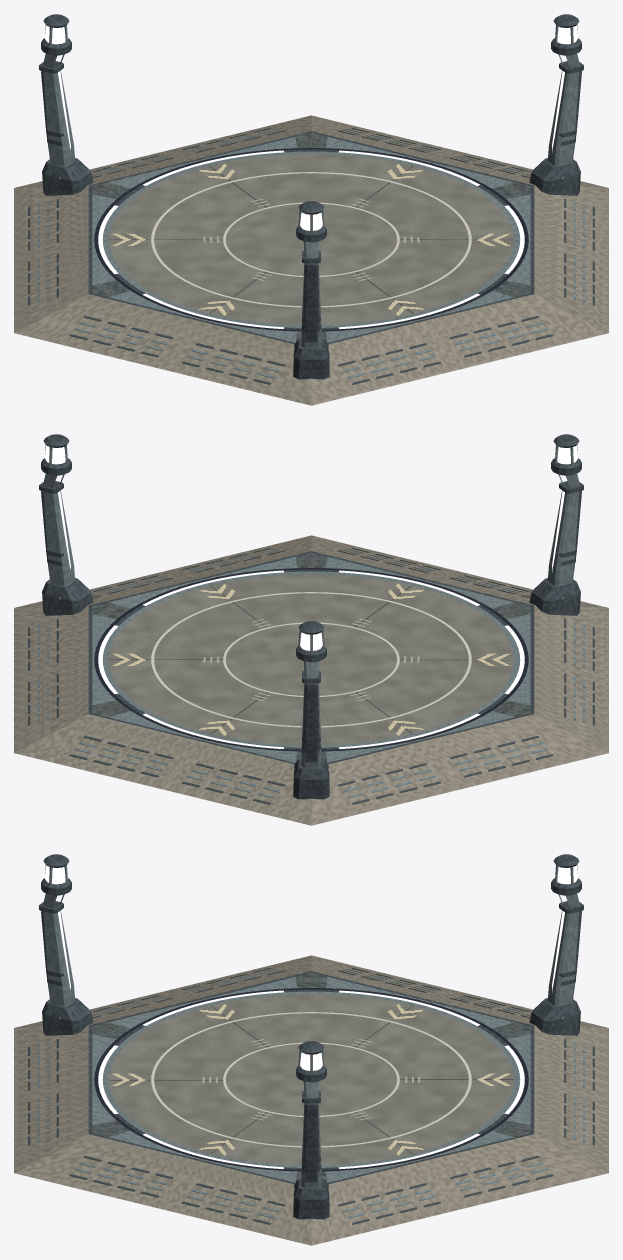
The model's file is ap_salida.glb.
The picture shows the model from 3 angles, top to bottom: view 1: azimuth 30°, elevation 25°; view 2: azimuth 150°, elevation 25°; view 3: azimuth 270°, elevation 25°; orthographic projection.
Parts seen in each view (by area): view 1: estructura; view 2: estructura; view 3: estructura.
Boxes of the visible parts, <box> form: estructura: <box>14,14,608,405</box>; estructura: <box>14,434,608,825</box>; estructura: <box>14,854,608,1245</box>.
Bounding box in the file's own units: 10.5 × 3.04 × 9.09.
2 materials, 1 textured.
